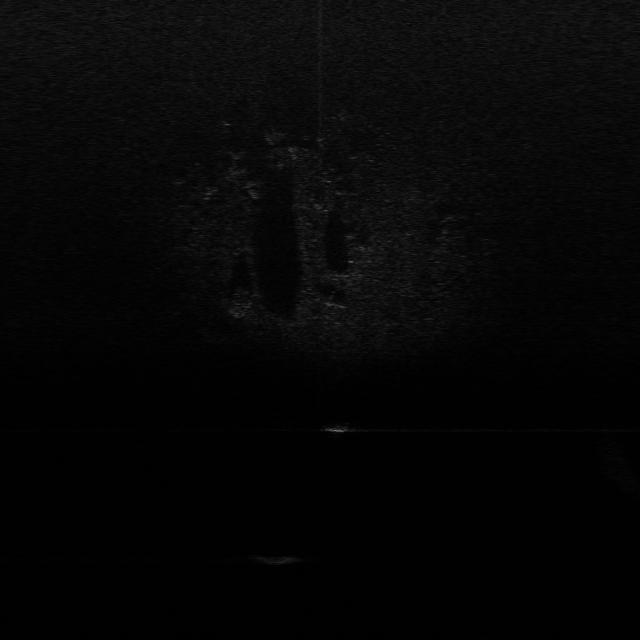cube: (249, 554, 303, 566)
square cage: (318, 420, 353, 434)
